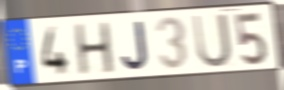3: (155, 15, 190, 73)
4: (41, 25, 71, 76)
5: (233, 10, 270, 67)
H: (73, 20, 117, 77)
J: (120, 19, 151, 72)
U: (190, 11, 233, 69)
